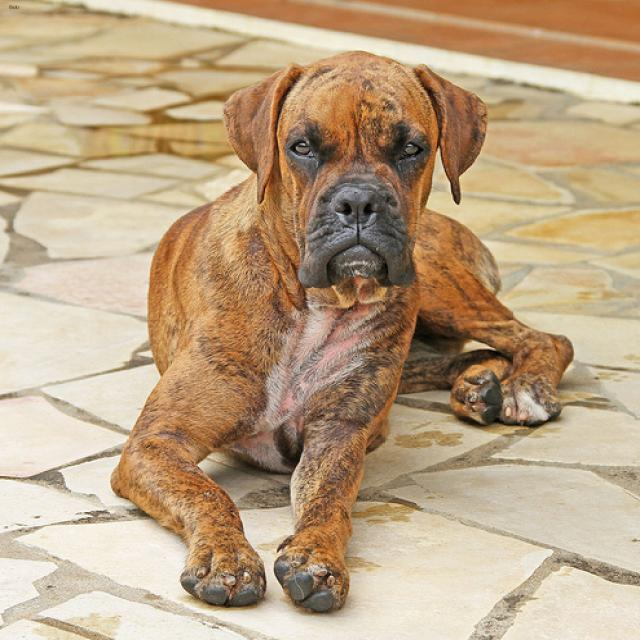dog-boxer: (88, 33, 588, 622)
